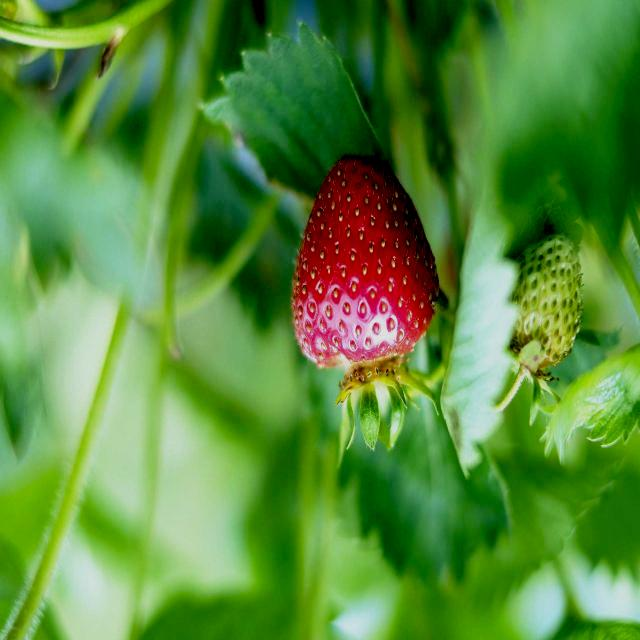ripe: (284, 155, 448, 385)
unripe: (495, 228, 595, 384)
